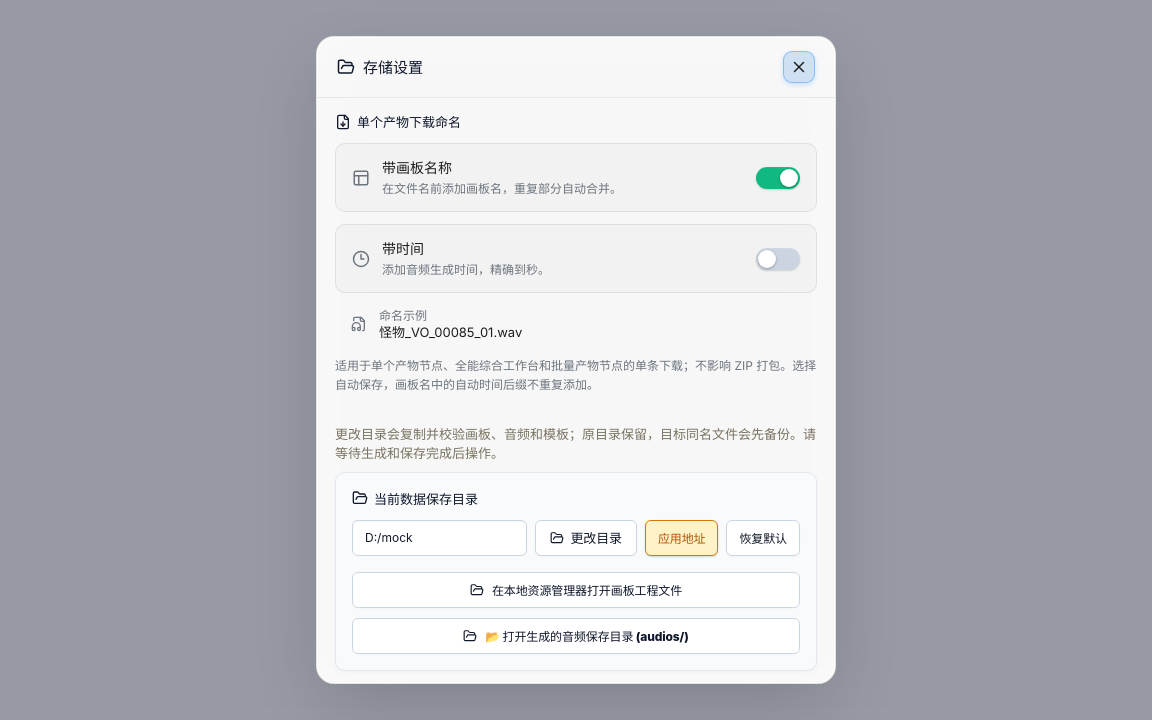
Scenario: extracted settings and confirmation views › storage download switches keep their appearance and naming behavior
The width and height of the screenshot is (1152, 720).
Click the switch named "带画板名称" at (778, 178), box x1=756 y1=166 x2=800 y2=188
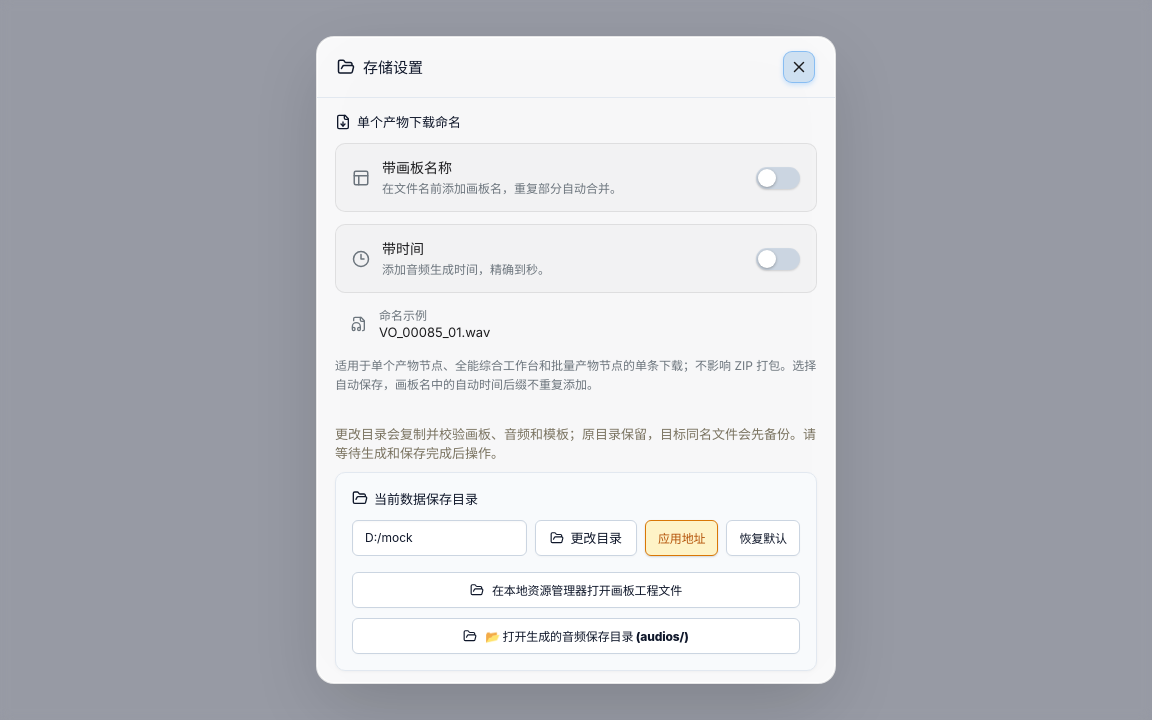
Result: the text with class "download-naming-filename" reads "VO_00085_01.wav" at x1=379 y1=325 x2=490 y2=341
Click the switch named "带时间" at (778, 258), box x1=756 y1=248 x2=800 y2=270
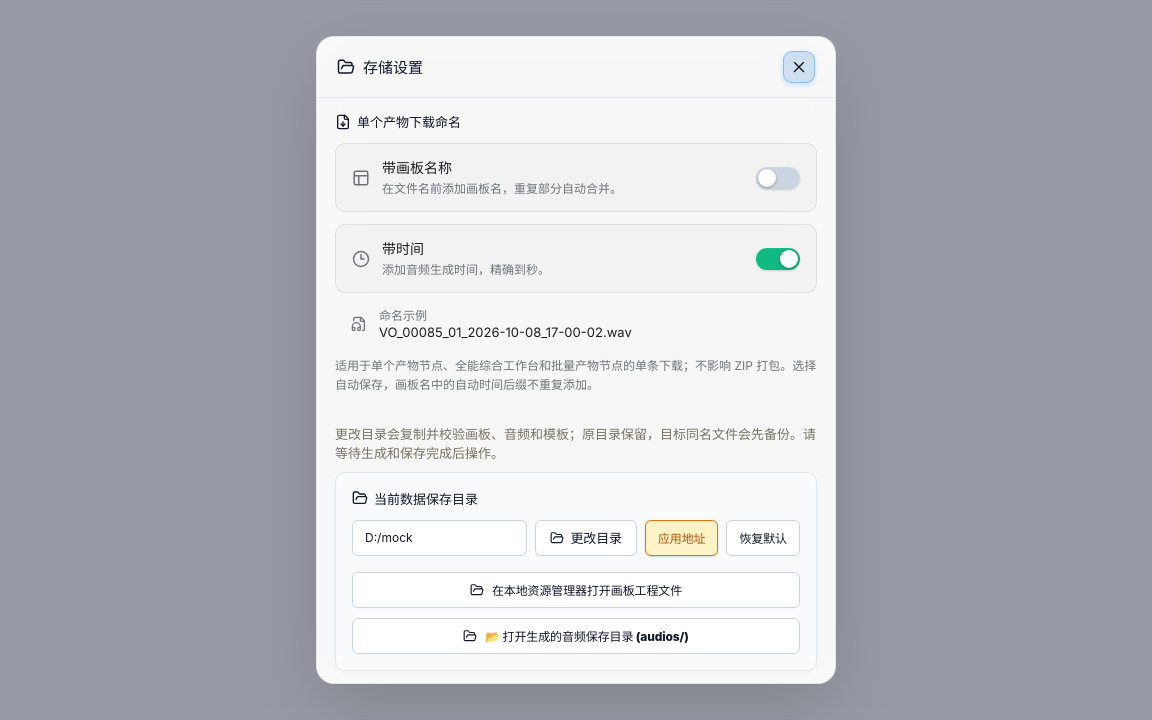
Result: the text with class "download-naming-filename" reads "VO_00085_01_2026-10-08_17-00-02.wav" at x1=379 y1=325 x2=632 y2=341
